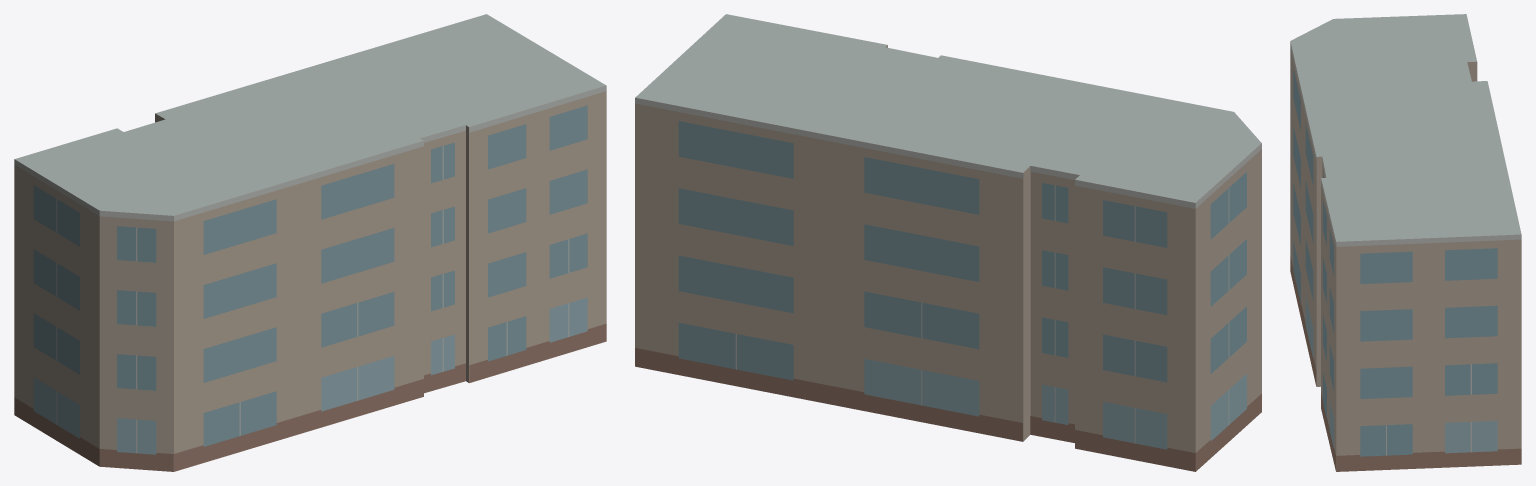
The model's file is survey-upis-32975490.glb.
The picture shows the model from 3 angles, left to right: view 1: azimuth 30°, elevation 25°; view 2: azimuth 150°, elevation 25°; view 3: azimuth 270°, elevation 25°; orthographic projection. The views are drawn at different scales.
Visible parts, largest first — view 1: survey-upis-32975490.tmp; view 2: survey-upis-32975490.tmp; view 3: survey-upis-32975490.tmp.
Boxes of the visible parts, left/top/right/bottom form: survey-upis-32975490.tmp: left=14, top=14, right=606, bottom=471; survey-upis-32975490.tmp: left=635, top=14, right=1261, bottom=471; survey-upis-32975490.tmp: left=1290, top=14, right=1521, bottom=471.
Bounding box in the file's own units: 23.8 × 11.2 × 10.21.
